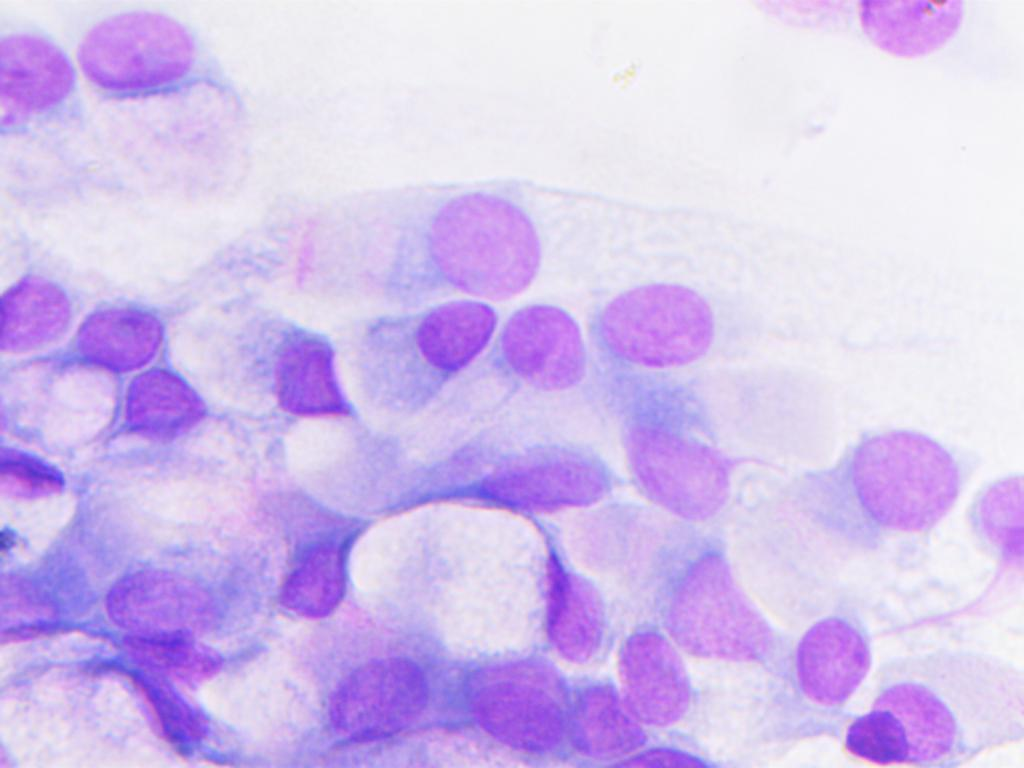ciliated: (273, 170, 556, 304)
eosinophil: (458, 654, 571, 758), (842, 0, 993, 77)
epithelial: (774, 373, 979, 544), (637, 520, 777, 676), (857, 649, 1024, 768), (604, 372, 735, 520), (290, 617, 438, 743), (104, 538, 260, 646), (457, 426, 619, 520), (589, 273, 725, 369), (774, 583, 871, 707), (0, 24, 82, 153), (500, 294, 592, 399), (0, 264, 84, 364), (617, 631, 691, 725), (968, 459, 1024, 576), (0, 437, 76, 518)
goblet_cell: (81, 9, 247, 213), (403, 511, 610, 663), (228, 303, 350, 493), (112, 369, 227, 537), (30, 285, 174, 411), (346, 302, 502, 404), (268, 504, 397, 626)
